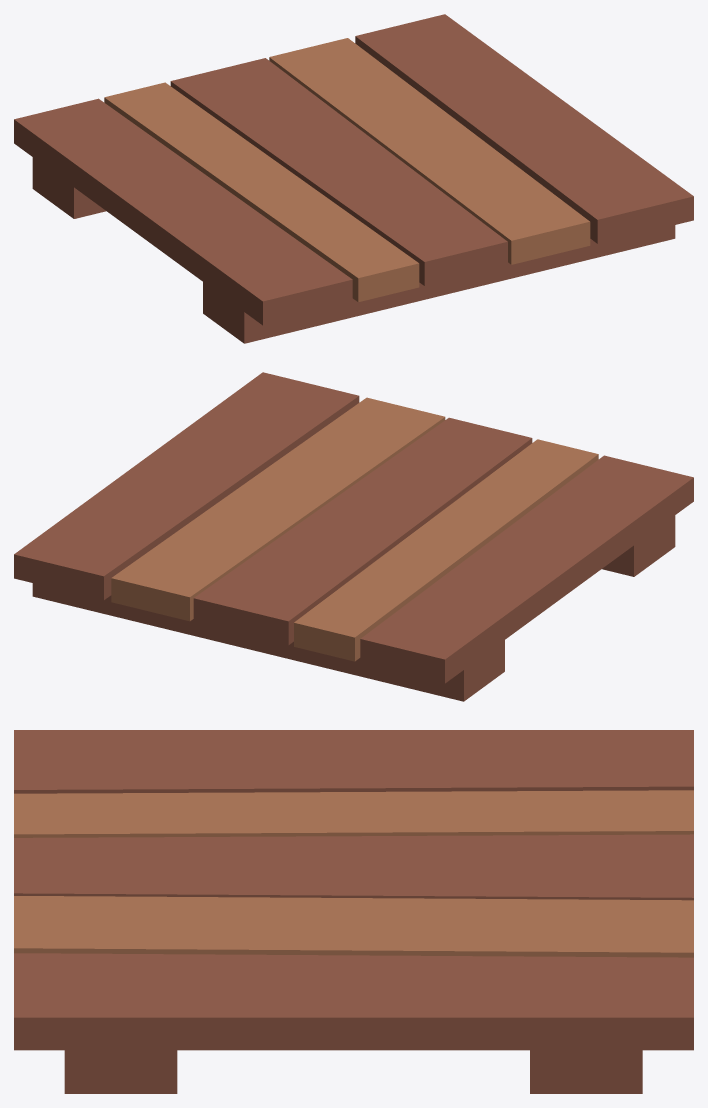
The model's file is bridge_wood.fbx.
3 views of the same model, one above another, from view 1: azimuth 30°, elevation 25°; view 2: azimuth 150°, elevation 25°; view 3: azimuth 270°, elevation 25° (orthographic). The views are drawn at different scales.
Visible parts, largest first — view 1: bridge_wood; view 2: bridge_wood; view 3: bridge_wood.
Boxes of the visible parts, box(x1,y1,x2,y2) form: bridge_wood: box(14, 14, 693, 343); bridge_wood: box(14, 372, 693, 701); bridge_wood: box(14, 730, 693, 1093).
Size of the model in its own units: 5 by 5 by 0.6194.
